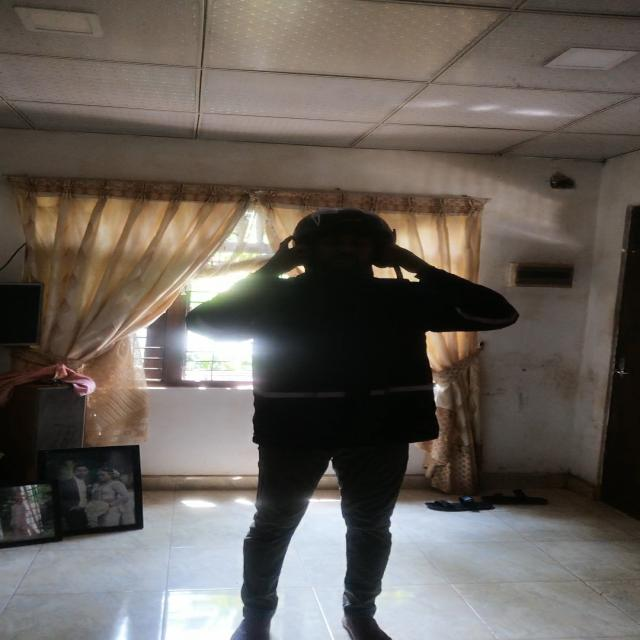Helmet_Wearer: (277, 204, 406, 288)
Jacket_Wearer: (179, 258, 516, 467)
Person: (189, 217, 509, 640)
